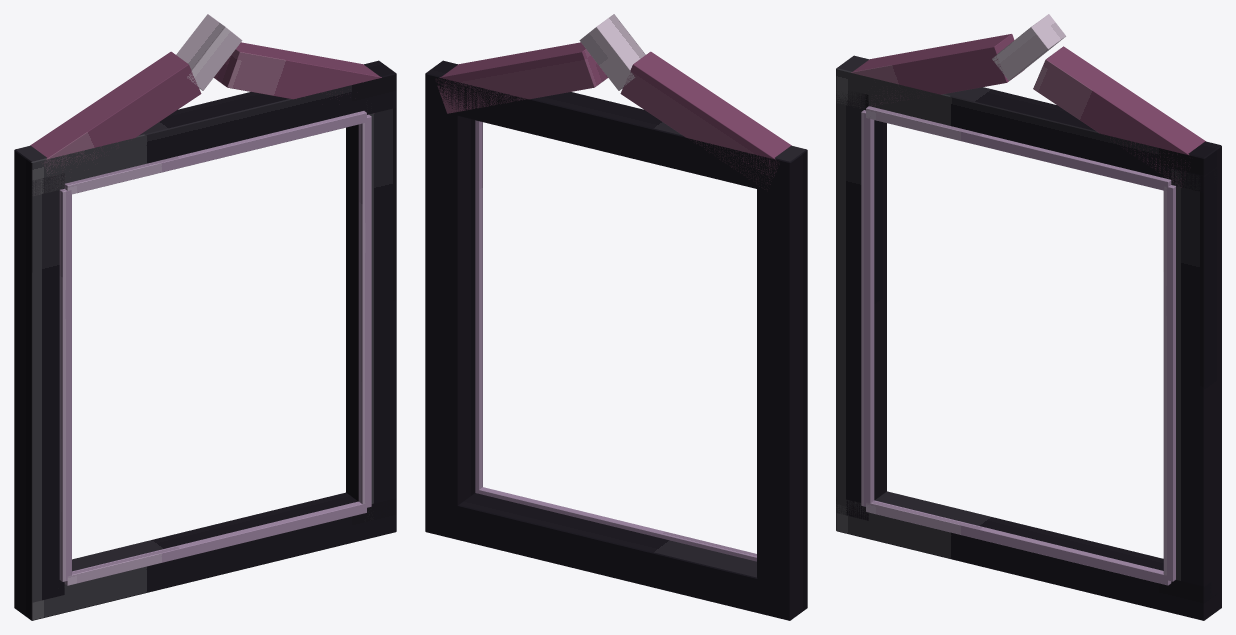
File: gothic_painting_frame_empty.glb
3 renders of one model, left to right at view 1: azimuth 30°, elevation 25°; view 2: azimuth 150°, elevation 25°; view 3: azimuth 330°, elevation 25°, orthographic.
Visible parts, largest first — view 1: FrameL, FrameR, FrameTop, FrameBottom, GothicShoulderL, GothicShoulderR, InnerTrimR, InnerTrimL, InnerTrimBottom, InnerTrimTop, GothicCrown; view 2: FrameL, FrameR, FrameBottom, FrameTop, GothicShoulderL, GothicShoulderR, InnerTrimR, GothicCrown, InnerTrimBottom; view 3: FrameR, FrameL, FrameBottom, FrameTop, GothicShoulderR, GothicShoulderL, InnerTrimL, InnerTrimR, InnerTrimBottom, InnerTrimTop, GothicCrown.
Part boxes in pixels (x1,y1,x2,y2): FrameL: (14,168,64,602); FrameR: (346,107,396,518); FrameTop: (14,60,396,195); FrameBottom: (14,492,396,620); GothicShoulderL: (30,51,201,173); GothicShoulderR: (214,42,381,113); InnerTrimR: (358,114,371,507); InnerTrimL: (59,189,71,581); InnerTrimBottom: (64,501,366,585); InnerTrimTop: (64,111,366,194); GothicCrown: (176,14,242,90); FrameL: (757,168,807,602); FrameR: (425,92,475,515); FrameBottom: (425,493,807,620); FrameTop: (425,60,807,195); GothicShoulderL: (620,51,791,189); GothicShoulderR: (435,42,607,113); InnerTrimR: (475,120,482,492); GothicCrown: (579,14,645,90); InnerTrimBottom: (475,487,756,561); FrameR: (1171,164,1221,602); FrameL: (836,87,886,520); FrameBottom: (836,491,1221,620); FrameTop: (836,55,1221,192); GothicShoulderR: (1033,46,1205,187); GothicShoulderL: (851,34,1024,105); InnerTrimL: (861,110,874,506); InnerTrimR: (1163,185,1175,581); InnerTrimBottom: (866,500,1171,585); InnerTrimTop: (866,106,1171,190); GothicCrown: (992,14,1065,80).
Bounding box in the file's own units: 1.3 × 1.86 × 0.1276.
Materials: 1 (1 with a texture image).
